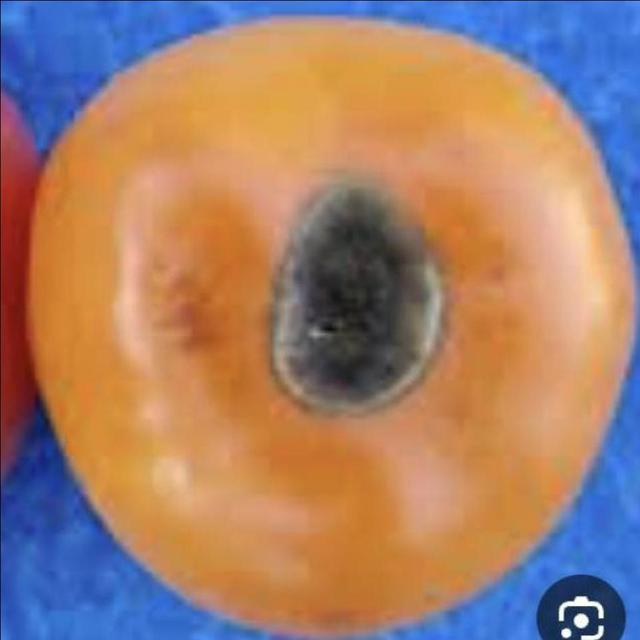Blossom End Rot Fruit: (174, 111, 301, 272)
